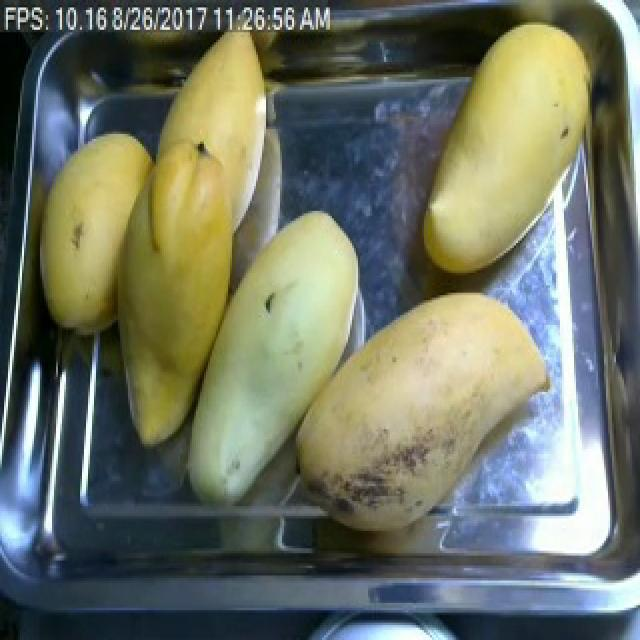fruit: (28, 111, 276, 462), (274, 280, 558, 536), (410, 2, 586, 288)
